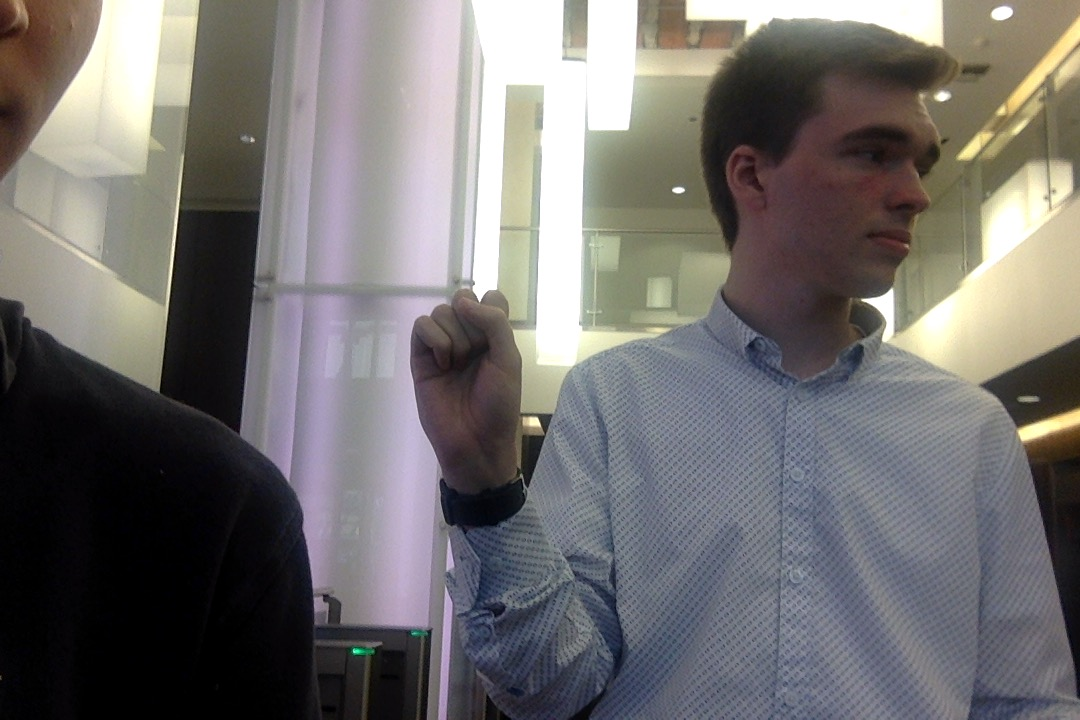s: (402, 285, 531, 464)
